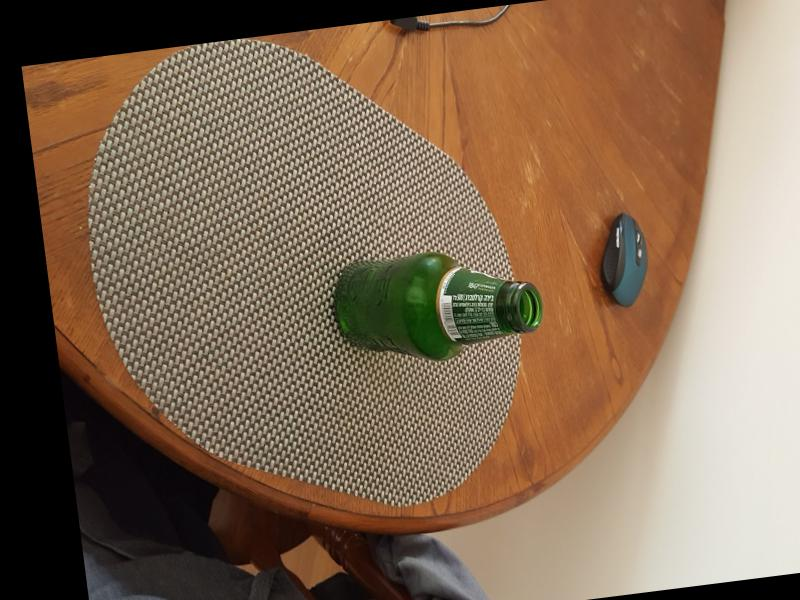Beer: (327, 234, 549, 376)
